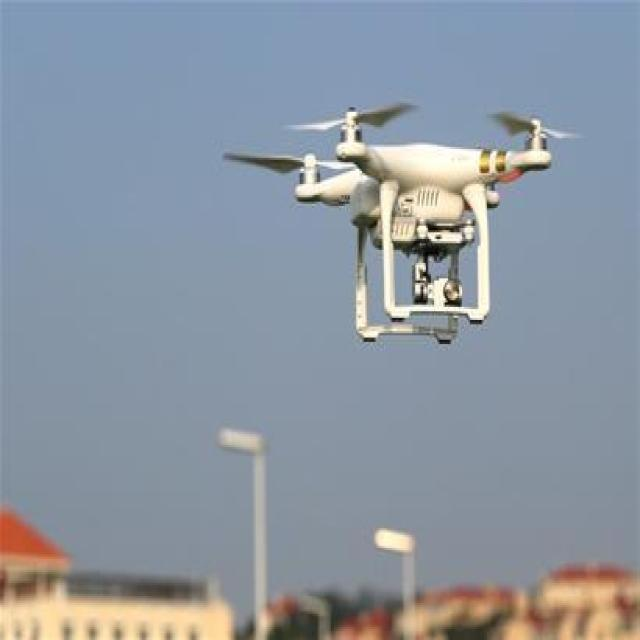drone: (227, 102, 581, 344)
